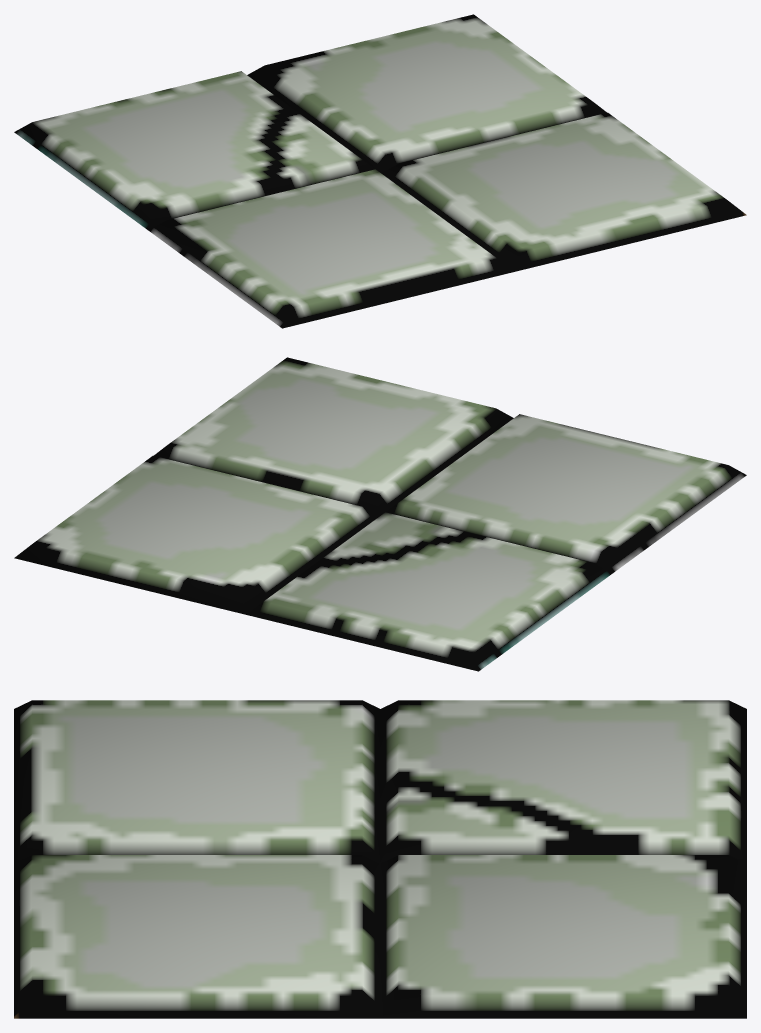
Rendered from deco_floorTilesBig.FBX.
The picture shows the model from 3 angles, top to bottom: view 1: azimuth 30°, elevation 25°; view 2: azimuth 150°, elevation 25°; view 3: azimuth 270°, elevation 25°; orthographic projection. The views are drawn at different scales.
Visible parts, largest first — view 1: deco_floorTilesBig; view 2: deco_floorTilesBig; view 3: deco_floorTilesBig.
Part boxes in pixels (left/top/right/bottom): deco_floorTilesBig: left=14, top=14, right=746, bottom=328; deco_floorTilesBig: left=14, top=357, right=746, bottom=671; deco_floorTilesBig: left=14, top=700, right=746, bottom=1018.
Bounding box in the file's own units: 2 × 0.05 × 2.
Materials: 1 (1 with a texture image).
